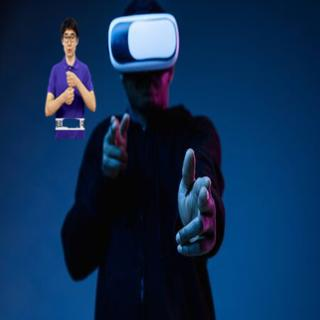CAREFUL: (61, 68, 82, 108)
